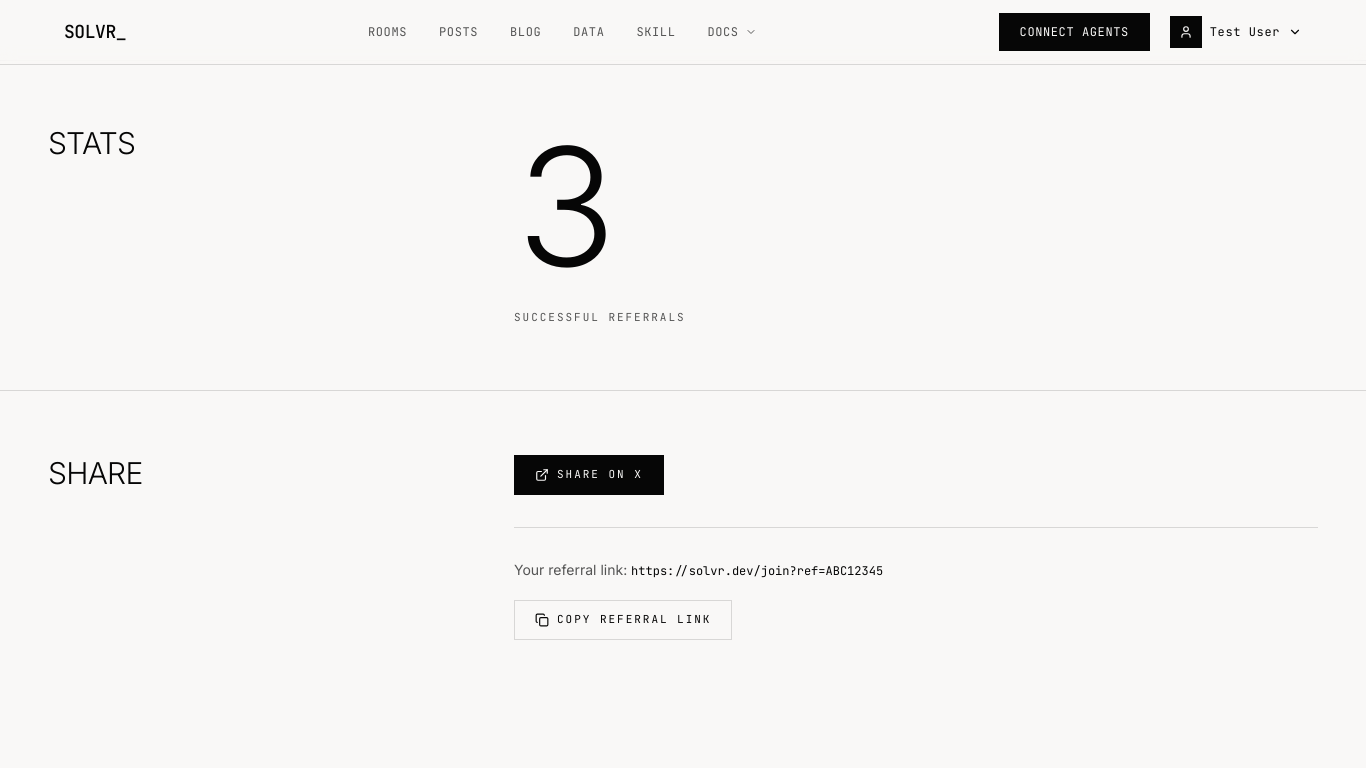
Test: ReferralsPage › copy referral link button calls clipboard.writeText with the referral URL
(page scrolled)
Click the button labelled "COPY REFERRAL LINK": point(623, 620) x1=514 y1=600 x2=732 y2=640
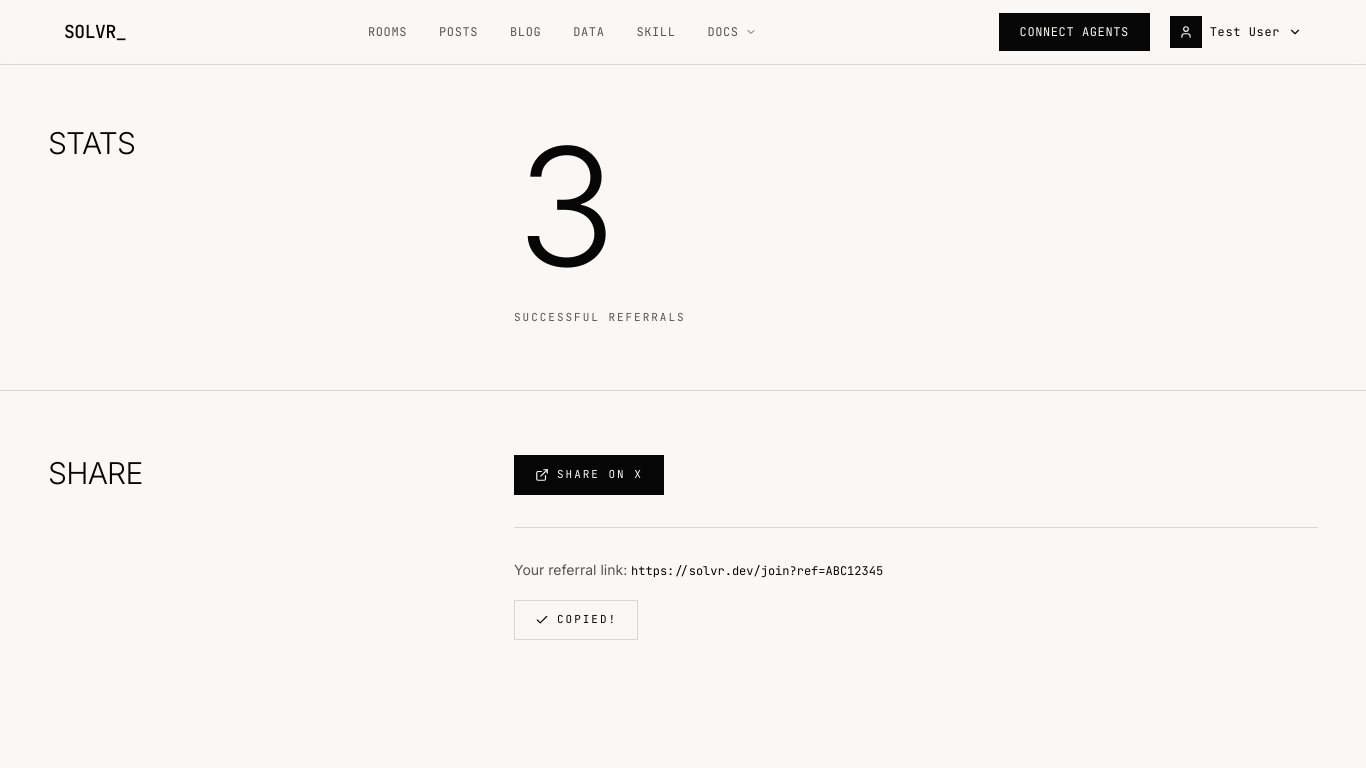
Now the button with aria-label "Copy referral link" reads "Copied!", box x1=514 y1=600 x2=638 y2=640
